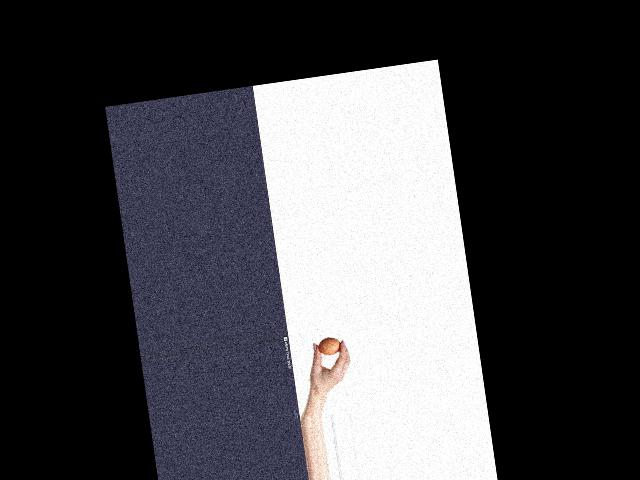egg: (316, 336, 341, 357)
